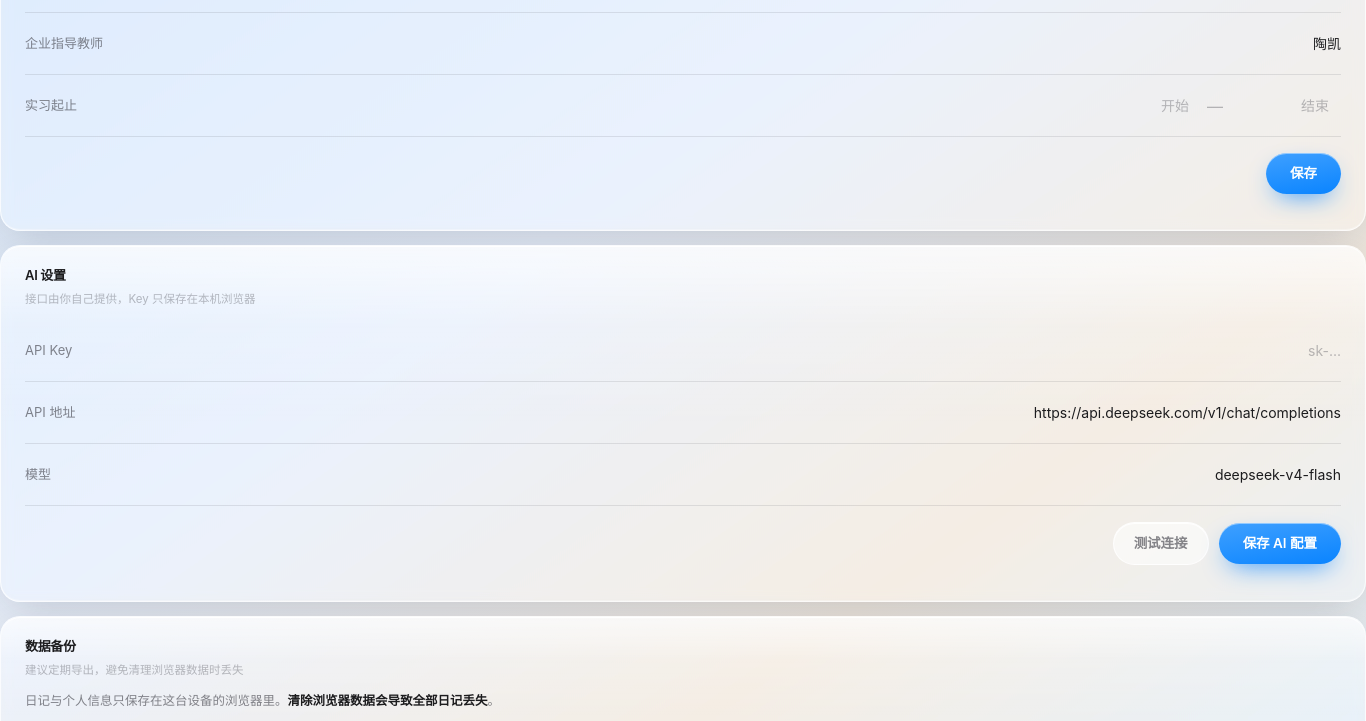
Test: SettingsPage 连接自检 › 测试前会把当前配置落盘，避免测到旧值
(page scrolled)
Type "sk-just-typed" into the password field with placeholder "sk-..." at (731, 351), box x1=108 y1=332 x2=1353 y2=369
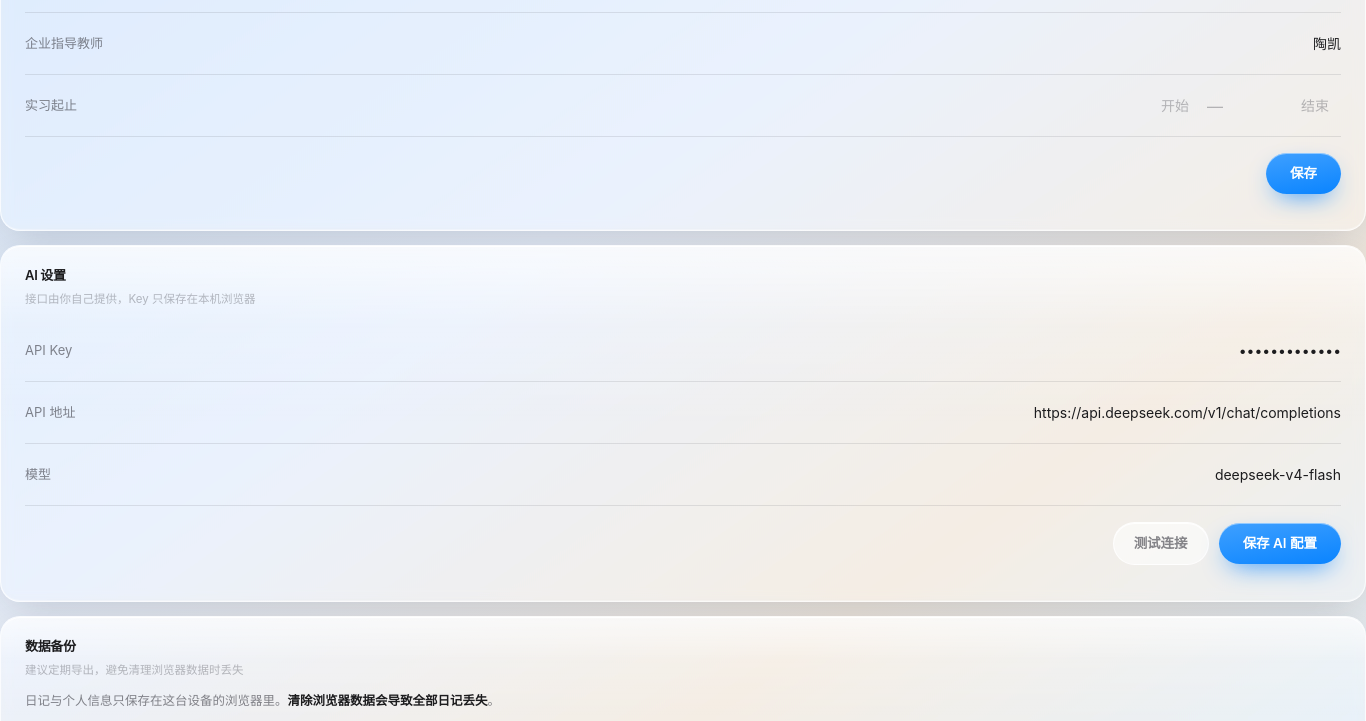
Click the button "测试连接" at (1161, 543), box x1=1113 y1=522 x2=1209 y2=565
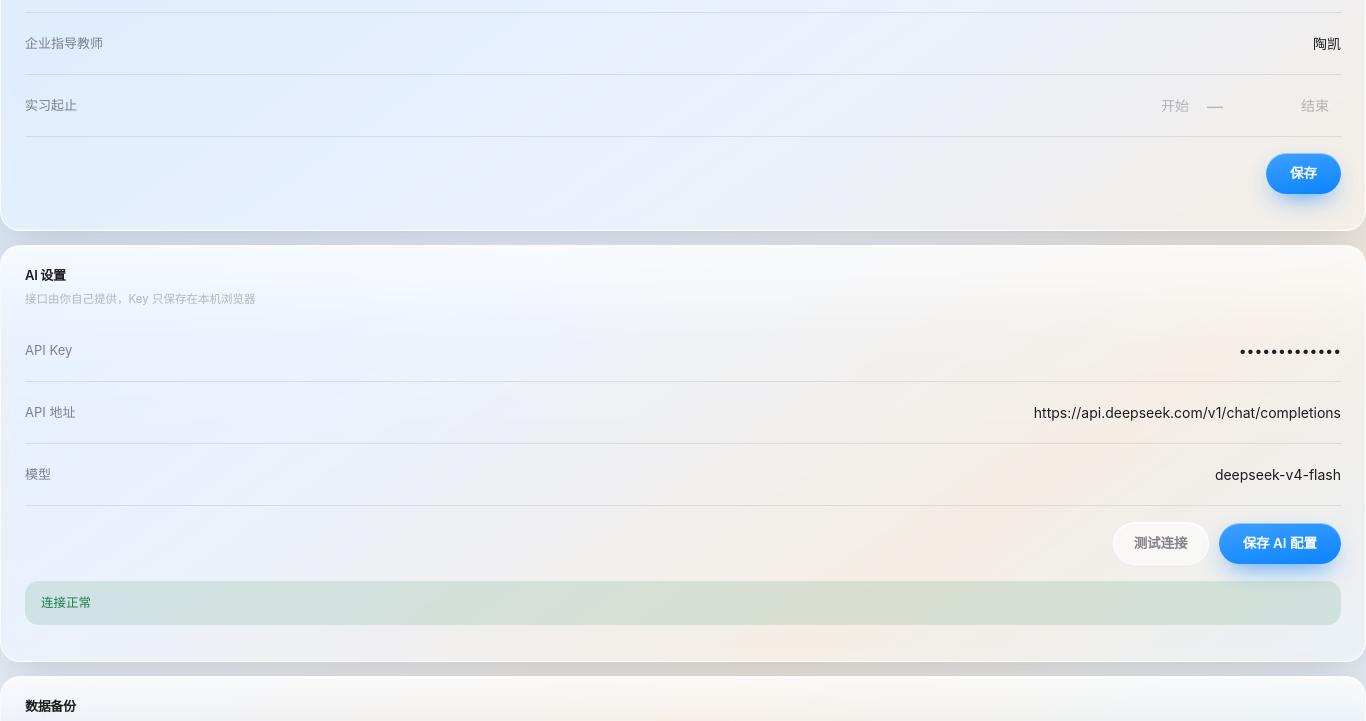
Check: the text "连接正常" is shown, box x1=25 y1=580 x2=1341 y2=625
